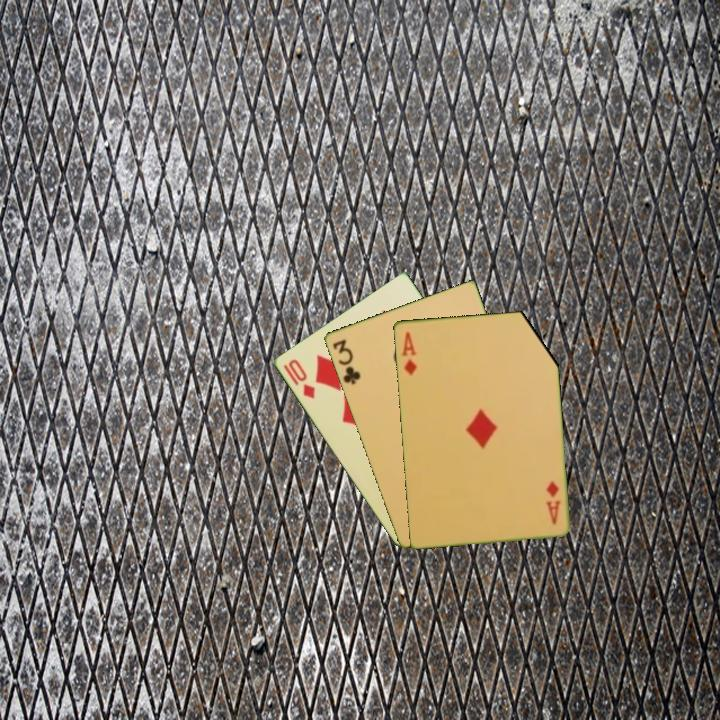10d: (280, 355, 318, 402)
3c: (329, 335, 363, 387)
Ad: (397, 328, 420, 378), (542, 477, 563, 527)
